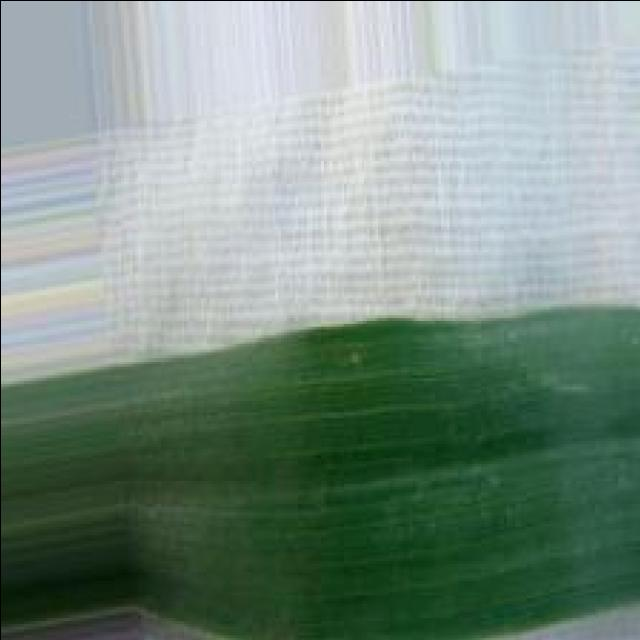Healthy: (0, 305, 640, 640)
